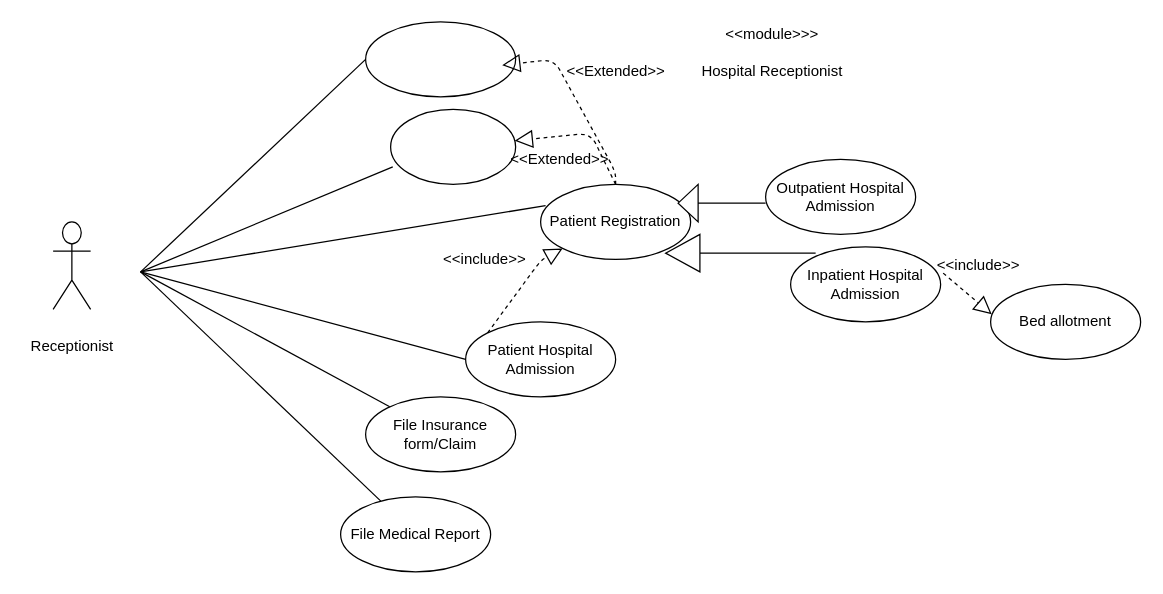
Image size: 1163x594. Some labels were removed from this diagram. The shapes that lost their labels are listed below. From the top down, each one's centre as x and y in pixels, then its label:
At pixel 440 59: "schedule patient appointment".
At pixel 452 146: "Schedule patient Hospital Admission".
At pixel 71 265: "Actor".
